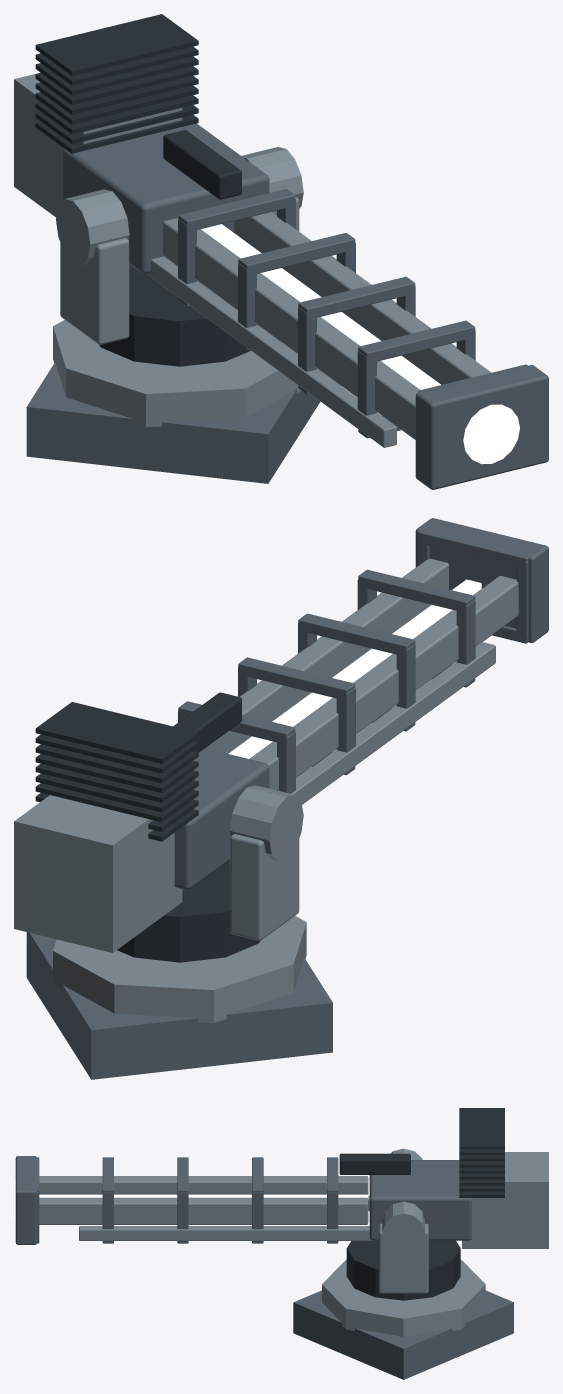
File: lancer_t3_d0.glb
3 renders of one model, top to bottom at view 1: azimuth 30°, elevation 25°; view 2: azimuth 150°, elevation 25°; view 3: azimuth 270°, elevation 25°, orthographic. The views are drawn at different scales.
Visible parts, largest first — view 1: RECOIL_ARMOR_GEOMETRY, BASE_ARMOR_GEOMETRY, YAW_ARMOR_GEOMETRY, RECOIL_SIGNAL_GEOMETRY; view 2: RECOIL_ARMOR_GEOMETRY, BASE_ARMOR_GEOMETRY, YAW_ARMOR_GEOMETRY, RECOIL_SIGNAL_GEOMETRY; view 3: RECOIL_ARMOR_GEOMETRY, BASE_ARMOR_GEOMETRY, YAW_ARMOR_GEOMETRY, RECOIL_SIGNAL_GEOMETRY.
Boxes of the visible parts, x1=… form: RECOIL_ARMOR_GEOMETRY: x1=14, y1=14, x2=548, y2=489; BASE_ARMOR_GEOMETRY: x1=26, y1=320, x2=320, y2=483; YAW_ARMOR_GEOMETRY: x1=60, y1=196, x2=299, y2=366; RECOIL_SIGNAL_GEOMETRY: x1=201, y1=224, x2=519, y2=464; RECOIL_ARMOR_GEOMETRY: x1=14, y1=518, x2=548, y2=952; BASE_ARMOR_GEOMETRY: x1=26, y1=916, x2=332, y2=1079; YAW_ARMOR_GEOMETRY: x1=117, y1=834, x2=299, y2=962; RECOIL_SIGNAL_GEOMETRY: x1=228, y1=579, x2=481, y2=758; RECOIL_ARMOR_GEOMETRY: x1=15, y1=1108, x2=548, y2=1252; BASE_ARMOR_GEOMETRY: x1=293, y1=1259, x2=513, y2=1379; YAW_ARMOR_GEOMETRY: x1=346, y1=1223, x2=460, y2=1300; RECOIL_SIGNAL_GEOMETRY: x1=14, y1=1180, x2=368, y2=1220.
Size of the model in its own units: 1.55 by 1.6 by 3.76.
